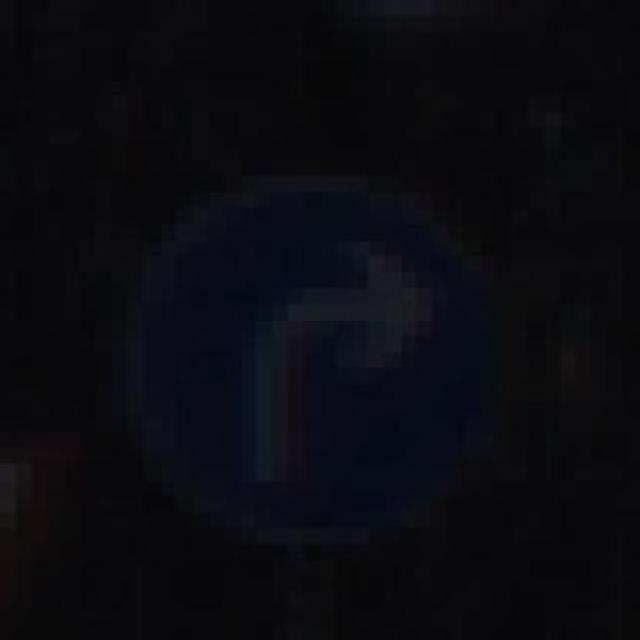Turn right ahead: (144, 112, 561, 560)
